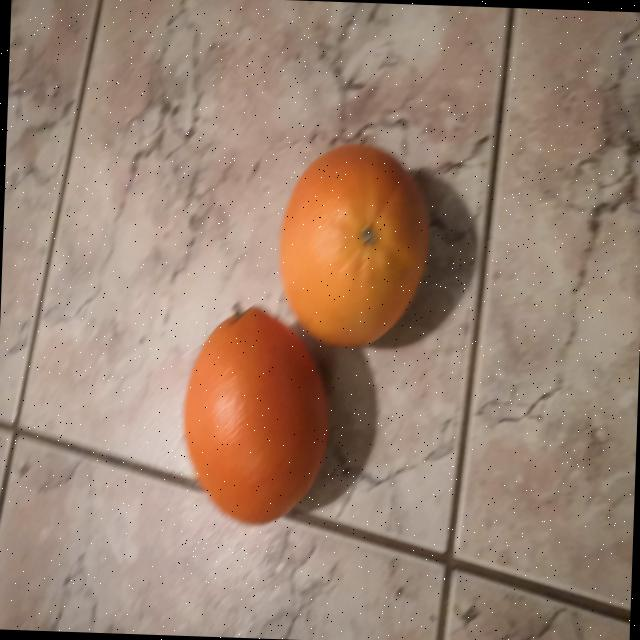orange: (184, 306, 328, 523), (278, 143, 429, 345)
